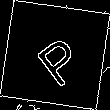P_NW: (25, 24, 85, 86)
